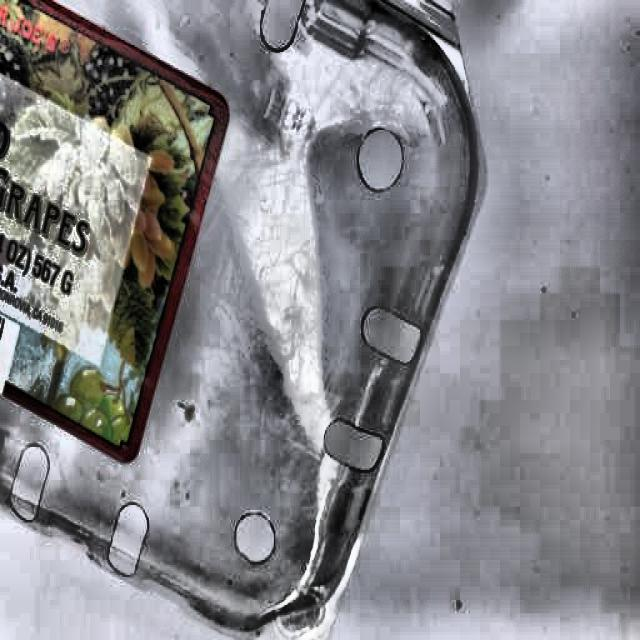plastic: (2, 0, 470, 618)
